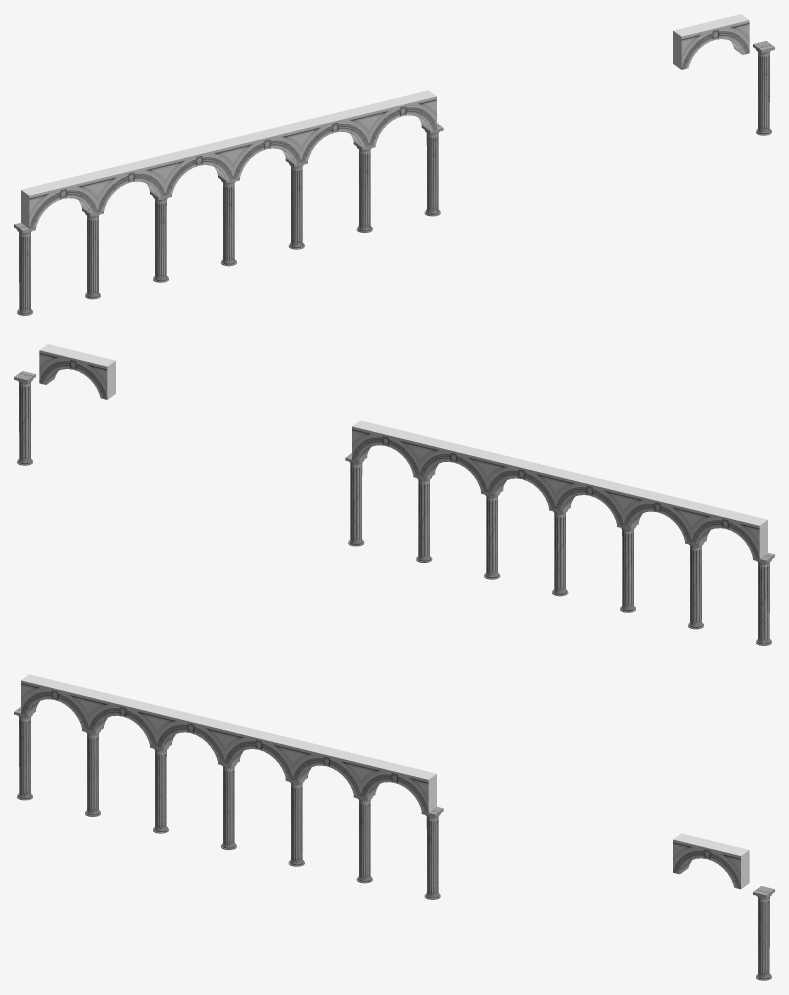
Rendered from columns with arches.fbx.
3 views of the same model, one above another, from view 1: azimuth 30°, elevation 25°; view 2: azimuth 150°, elevation 25°; view 3: azimuth 330°, elevation 25° (orthographic).
Visible parts, largest first — view 1: Cube.015, Cube.006, Cube.009, Cube.004, Cube.008, Cube.002, Cube.013, Cylinder.007, Cylinder.001, Cylinder.005, Cylinder.002, Cylinder.003 (+3 smaller); view 2: Cube.015, Cube.006, Cube.009, Cube.004, Cube.008, Cube.002, Cube.013, Cylinder.007, Cylinder.001, Cylinder.005, Cylinder.002, Cylinder.003 (+3 smaller); view 3: Cube.015, Cube.013, Cube.008, Cube.002, Cube.004, Cube.009, Cube.006, Cylinder.007, Cylinder.004, Cylinder.001, Cylinder.003, Cylinder.006 (+3 smaller).
Boxes of the visible parts, x1,y1,x2,y2 form: Cube.015: (673,14,749,69); Cube.006: (21,173,97,228); Cube.009: (89,156,165,212); Cube.004: (157,140,233,195); Cube.008: (293,107,368,162); Cube.002: (225,123,300,178); Cube.013: (361,90,436,145); Cylinder.007: (424,130,440,216); Cylinder.001: (288,163,304,249); Cylinder.005: (85,213,100,299); Cylinder.002: (220,180,236,266); Cylinder.003: (153,196,168,282); Cube.015: (39,344,115,399); Cube.006: (691,503,767,558); Cube.009: (623,486,699,542); Cube.004: (555,470,631,525); Cube.008: (420,437,495,492); Cube.002: (488,453,563,508); Cube.013: (352,420,427,475); Cylinder.007: (348,460,364,546); Cylinder.001: (484,493,500,579); Cylinder.005: (688,543,703,629); Cylinder.002: (552,510,568,596); Cylinder.003: (620,526,635,612); Cube.015: (673,833,749,889); Cube.013: (360,757,436,812); Cube.008: (292,740,368,796); Cube.002: (224,724,300,779); Cube.004: (156,707,232,762); Cube.009: (89,691,164,746); Cube.006: (21,674,96,729); Cylinder.007: (424,813,440,899); Cylinder.004: (356,797,372,883); Cylinder.001: (288,780,304,866); Cylinder.003: (153,747,168,833); Cylinder.006: (17,714,32,800).
Size of the model in its own units: 16584 by 2520 by 324.
Materials: 2 (2 with a texture image).
